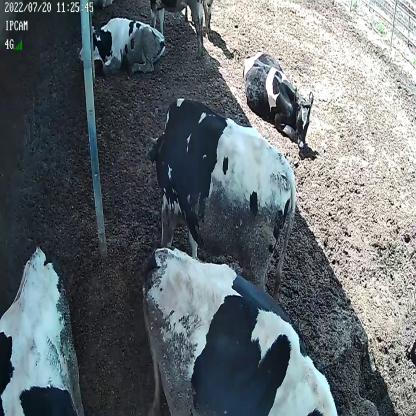cow: (138, 247, 339, 416), (146, 94, 296, 300), (240, 50, 316, 146), (77, 16, 168, 78)
